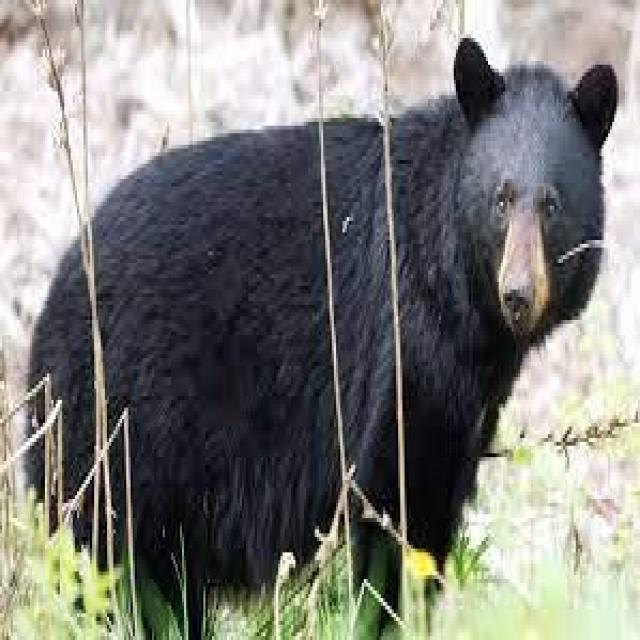Bear: (24, 38, 621, 640)
